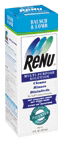grozi_1: (3, 3, 58, 136)
